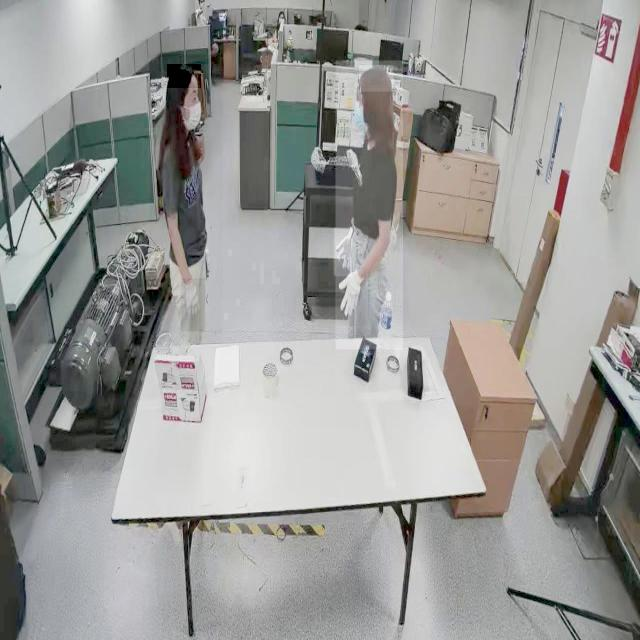hand_glove: (336, 267, 366, 327), (181, 278, 205, 332), (333, 228, 352, 276)
head_nohelmet: (358, 65, 394, 92), (167, 64, 201, 89)
person: (149, 54, 223, 346), (335, 61, 403, 350)
